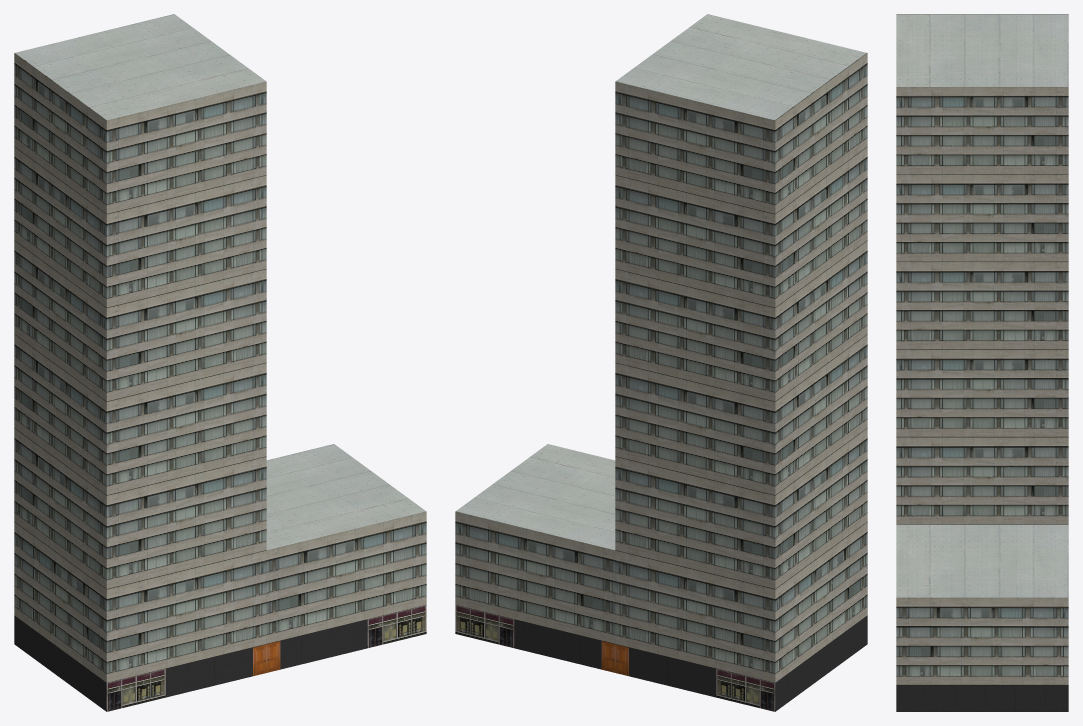
Rendered from Building024.fbx.
3 renders of one model, left to right at view 1: azimuth 30°, elevation 25°; view 2: azimuth 150°, elevation 25°; view 3: azimuth 270°, elevation 25°, orthographic. The views are drawn at different scales.
Visible parts, largest first — view 1: Building024; view 2: Building024; view 3: Building024.
Part boxes in pixels (x1=…): Building024: x1=14, y1=14, x2=426, y2=711; Building024: x1=455, y1=14, x2=867, y2=711; Building024: x1=896, y1=14, x2=1068, y2=711.
Size of the model in its own units: 31.61 by 55.88 by 15.81.
